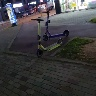beam: (40, 9, 72, 42)
gcooter: (29, 17, 64, 60)
